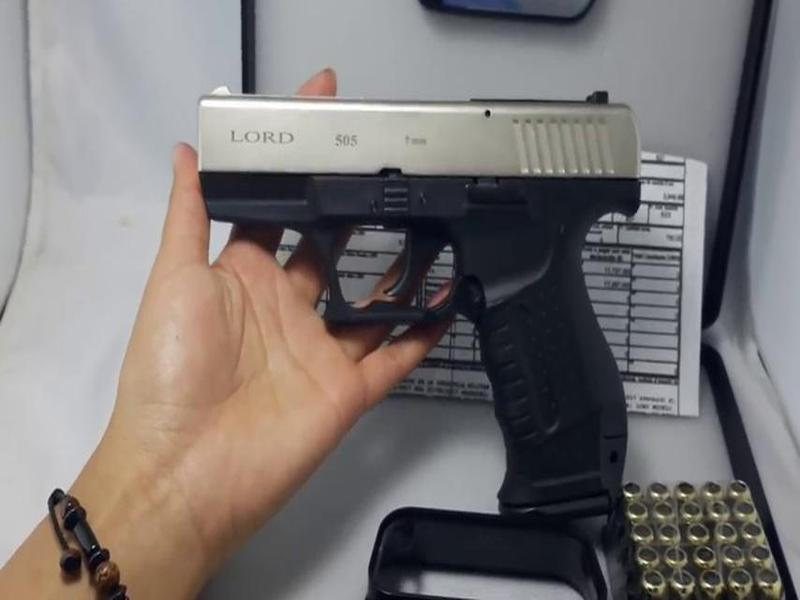Pistola: (201, 61, 637, 517)
